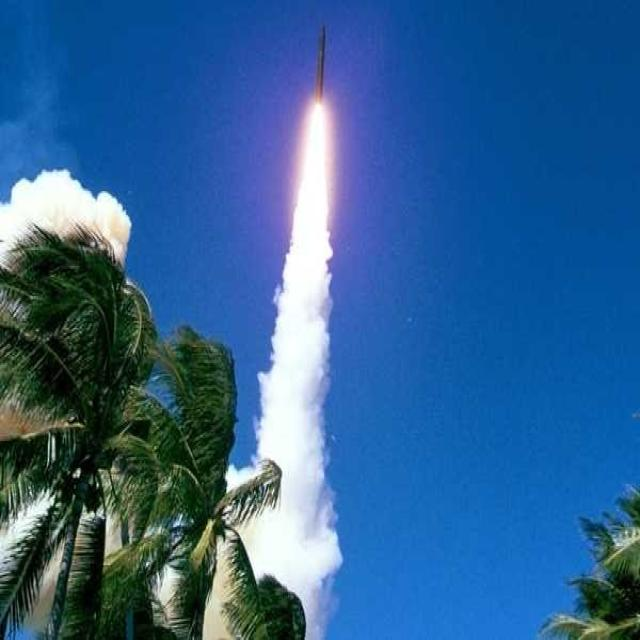missile: (306, 20, 330, 104)
